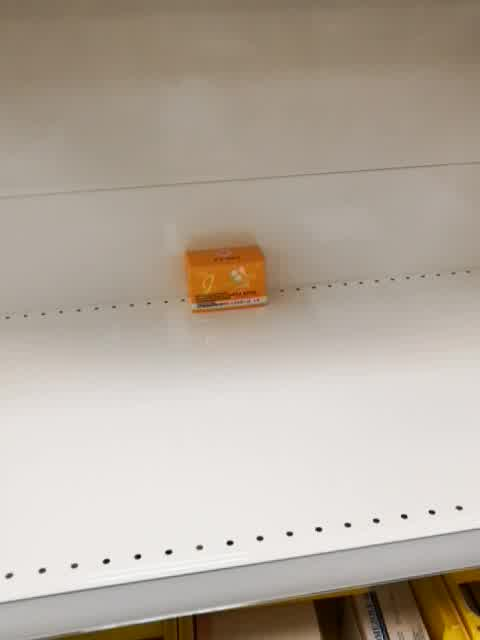jasminetea: (183, 243, 268, 314)
